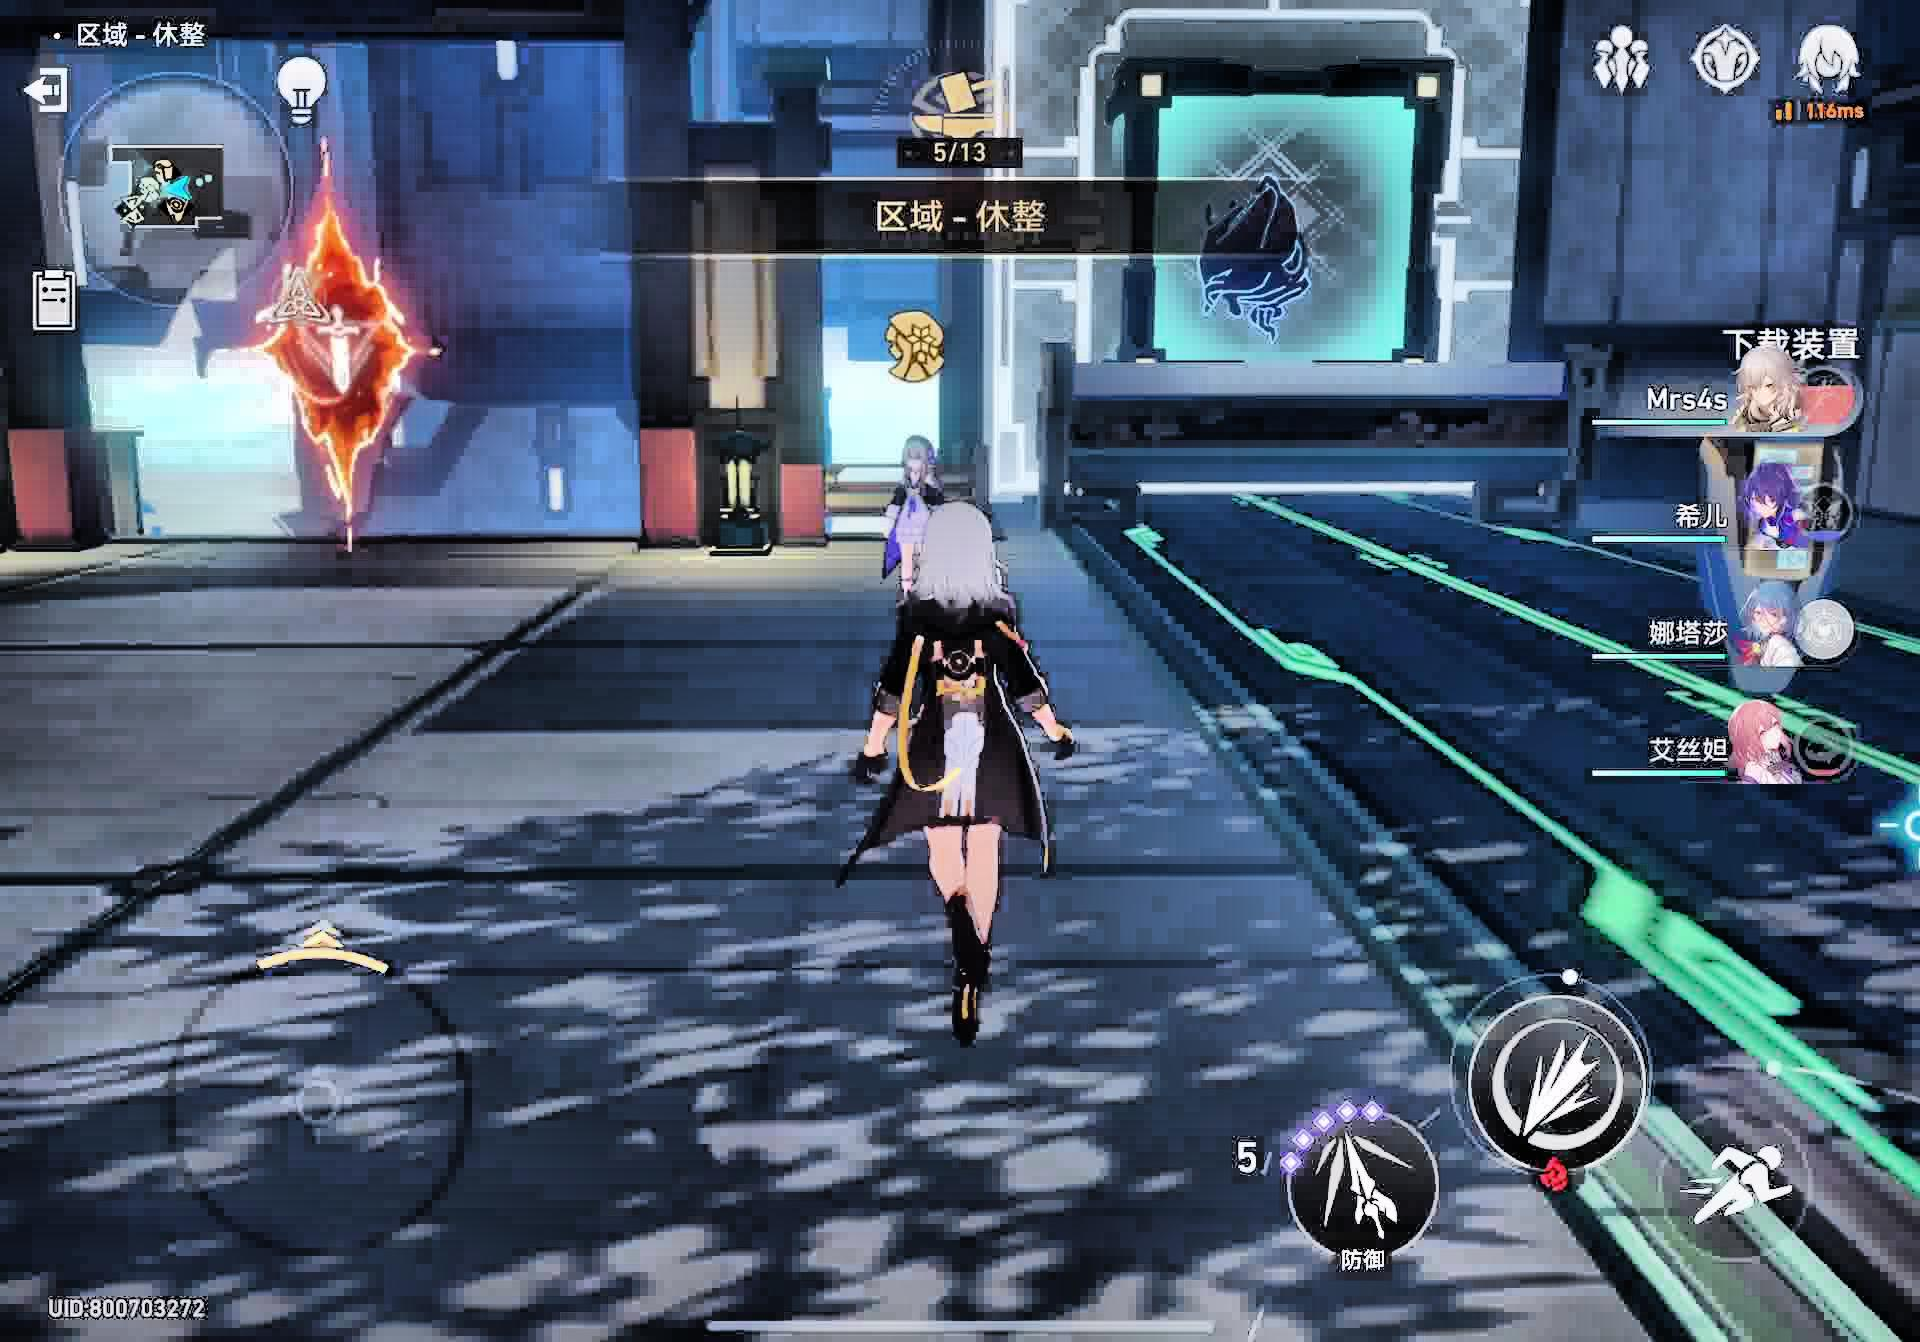BattleDoor: (220, 210, 446, 559)
Self: (867, 508, 1072, 1052)
TeamMate: (881, 439, 935, 585)
